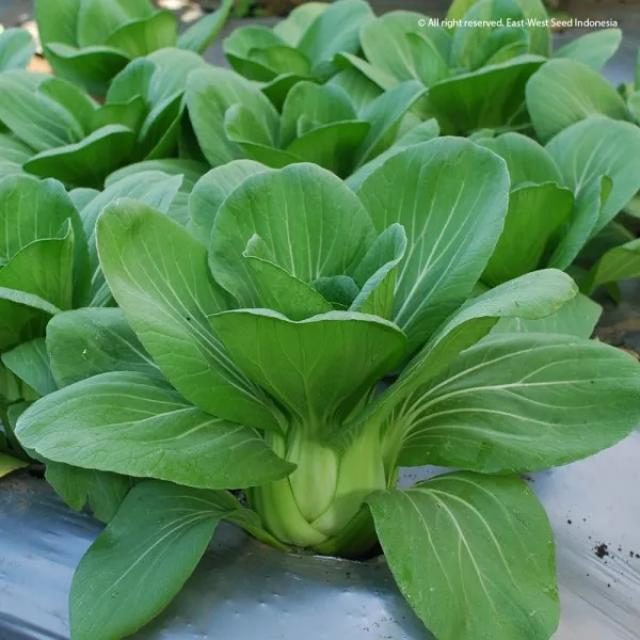pakcoy_sehat: (43, 146, 623, 640)
